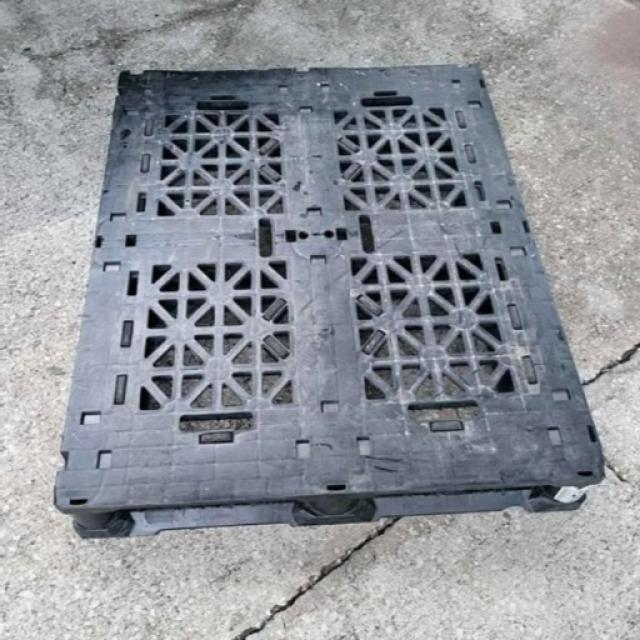igps: (43, 58, 613, 550)
